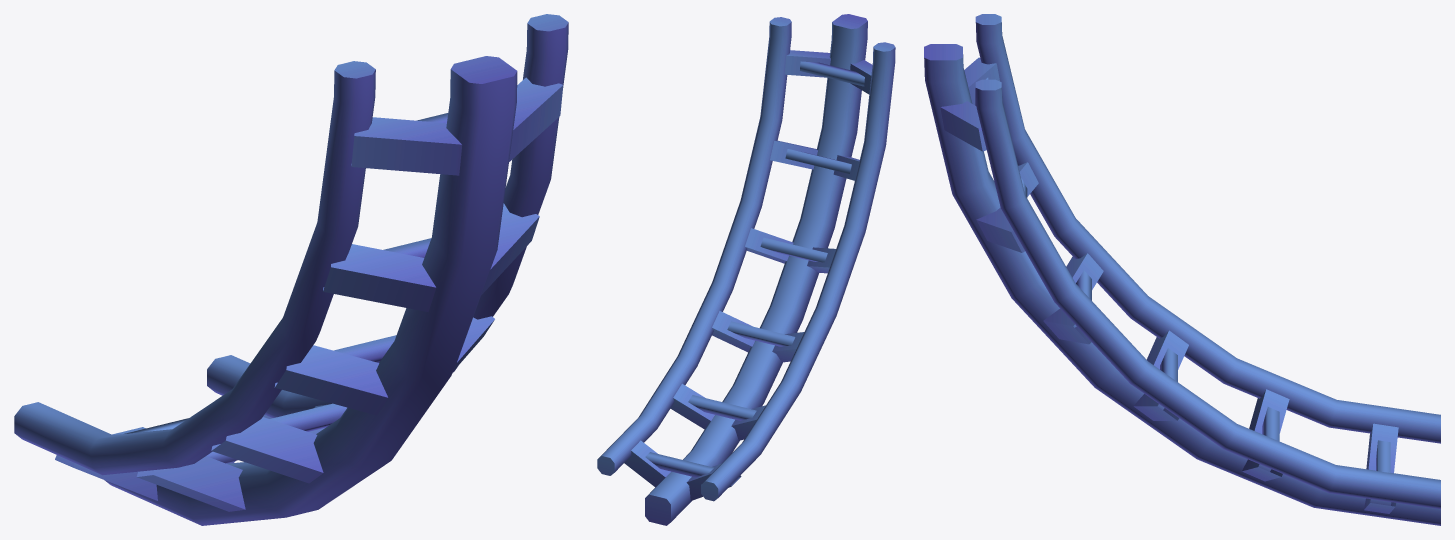
The model's file is coaster-steel-straight-bend.glb.
The picture shows the model from 3 angles, left to right: view 1: azimuth 30°, elevation 25°; view 2: azimuth 150°, elevation 25°; view 3: azimuth 270°, elevation 25°; orthographic projection. The views are drawn at different scales.
Visible parts, largest first — view 1: coaster-steel-straight-bend; view 2: coaster-steel-straight-bend; view 3: coaster-steel-straight-bend.
Boxes of the visible parts, x1=… form: coaster-steel-straight-bend: x1=14, y1=14, x2=568, y2=525; coaster-steel-straight-bend: x1=597, y1=14, x2=895, y2=525; coaster-steel-straight-bend: x1=924, y1=14, x2=1440, y2=525.
Bounding box in the file's own units: 0.7 × 2 × 2.
1 material, 1 textured.
